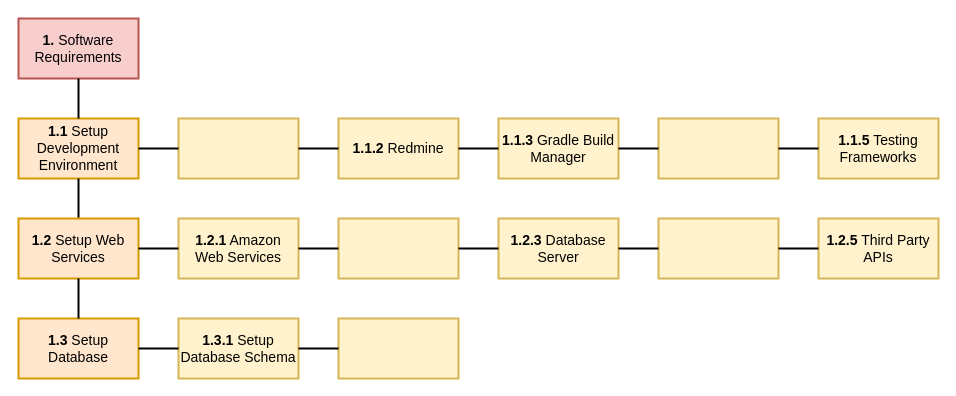
Some shapes in this 956 by 396 pixel diagram are drawn without their labels. Each missing label, with the centre of its shape:
"1.1.1 GitHub Repository" belongs at (x=238, y=148).
"1.1.4 IDE(s)" belongs at (x=718, y=148).
"1.2.2 Risk Analysis Server" belongs at (x=398, y=248).
"1.2.4 Information Resource Plugins" belongs at (x=718, y=248).
"1.3.2 Specify User Access Levels" belongs at (x=398, y=348).
